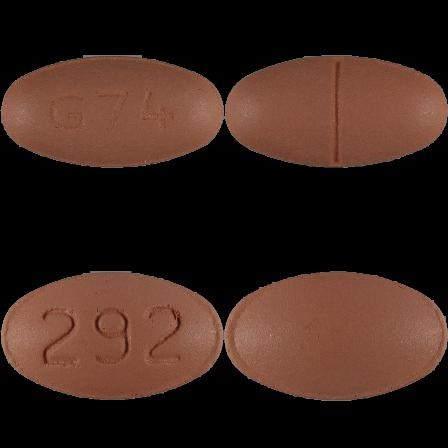68462-260: (0, 0, 224, 224)
